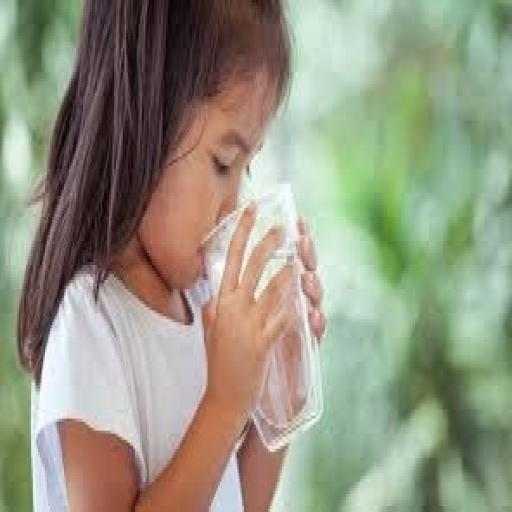drinking: (190, 184, 324, 452)
